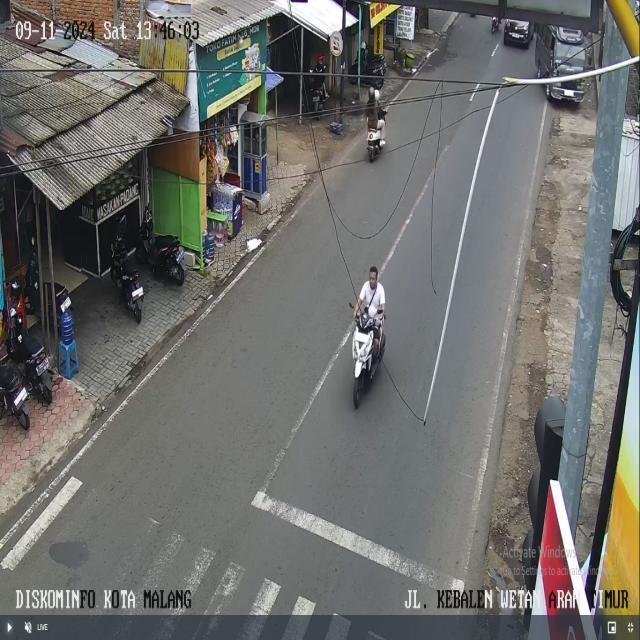Helmet: (316, 53, 324, 64), (374, 89, 379, 100)
Number Plate: (14, 387, 27, 406), (36, 358, 48, 375), (60, 297, 70, 311), (132, 287, 143, 299)
